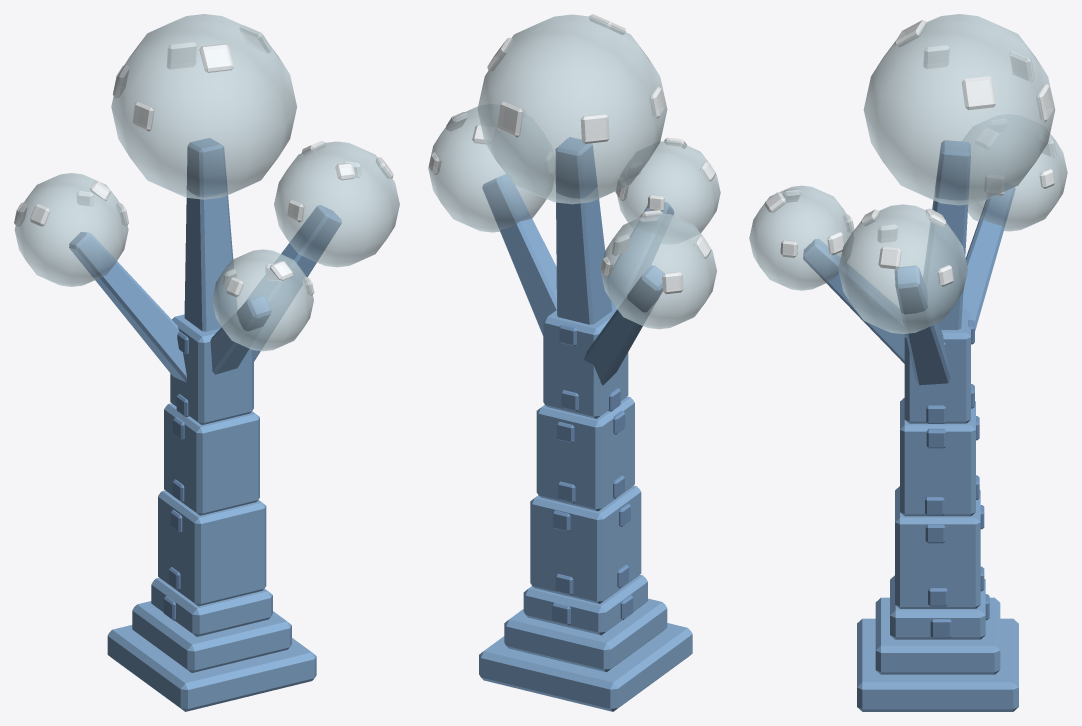
File: UnderwaterBubbleTree.fbx
The picture shows the model from 3 angles, left to right: view 1: azimuth 30°, elevation 25°; view 2: azimuth 150°, elevation 25°; view 3: azimuth 270°, elevation 25°; orthographic projection. The views are drawn at different scales.
Visible parts, largest first — view 1: UnderwaterBubbleTree.Trunk, UnderwaterBubbleTree.Bubbles, UnderwaterBubbleTree.BubbleStuds, UnderwaterBubbleTree.TrunkStuds; view 2: UnderwaterBubbleTree.Trunk, UnderwaterBubbleTree.Bubbles, UnderwaterBubbleTree.BubbleStuds, UnderwaterBubbleTree.TrunkStuds; view 3: UnderwaterBubbleTree.Trunk, UnderwaterBubbleTree.Bubbles, UnderwaterBubbleTree.BubbleStuds, UnderwaterBubbleTree.TrunkStuds.
Part boxes in pixels (x1=…): UnderwaterBubbleTree.Trunk: x1=69, y1=138, x2=341, y2=711; UnderwaterBubbleTree.Bubbles: x1=14, y1=14, x2=399, y2=351; UnderwaterBubbleTree.BubbleStuds: x1=14, y1=25, x2=393, y2=297; UnderwaterBubbleTree.TrunkStuds: x1=163, y1=332, x2=188, y2=620; UnderwaterBubbleTree.Trunk: x1=479, y1=137, x2=692, y2=711; UnderwaterBubbleTree.Bubbles: x1=428, y1=14, x2=720, y2=329; UnderwaterBubbleTree.BubbleStuds: x1=428, y1=14, x2=715, y2=294; UnderwaterBubbleTree.TrunkStuds: x1=552, y1=324, x2=633, y2=625; UnderwaterBubbleTree.Trunk: x1=803, y1=140, x2=1018, y2=711; UnderwaterBubbleTree.Bubbles: x1=749, y1=14, x2=1067, y2=333; UnderwaterBubbleTree.BubbleStuds: x1=764, y1=20, x2=1055, y2=286; UnderwaterBubbleTree.TrunkStuds: x1=925, y1=320, x2=989, y2=638.
Size of the model in its own units: 6.12 by 11.75 by 5.15.
